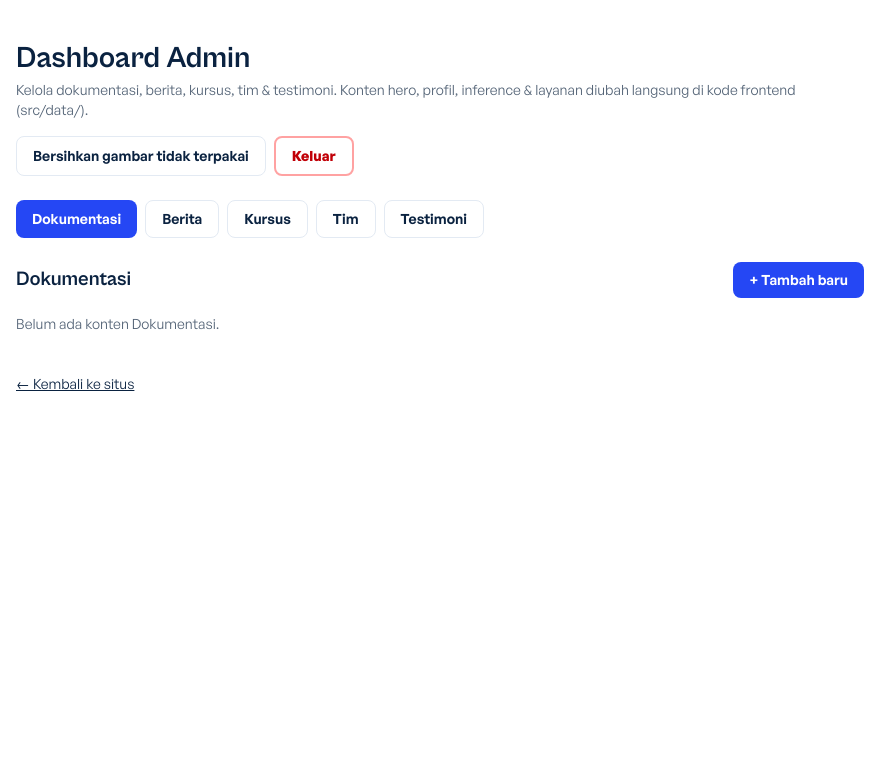
Test: Admin — tab Kursus › form kursus terbagi 5 bagian bernomor + video/kuis di balik disclosure
Expected: the heading "Dashboard Admin" is shown, x1=16 y1=41 x2=250 y2=75
Click the tab "Kursus". click: (268, 219)
box: x1=227 y1=200 x2=308 y2=238
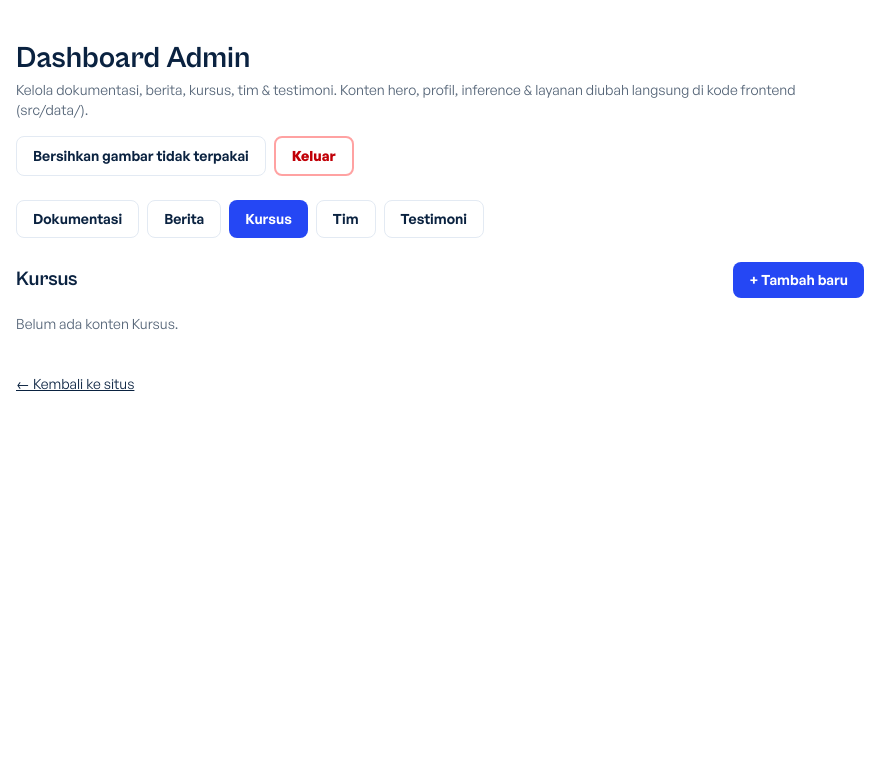
Click the button "+ Tambah baru". click: (799, 280)
box: x1=733 y1=262 x2=864 y2=298
(page scrolled)
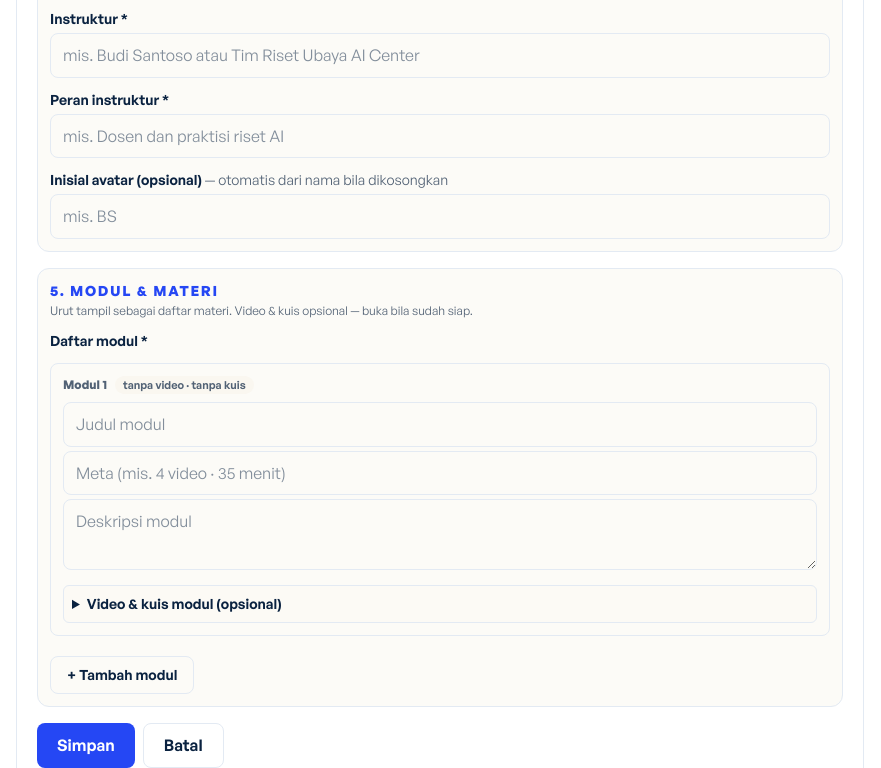
Result: the heading "5. Modul & materi" is shown at x1=50 y1=282 x2=219 y2=299
Result: the element showing "Video & kuis modul (opsional)" is shown at x1=63 y1=585 x2=817 y2=623
Result: the heading "Video & kuis modul (opsional)" is shown at x1=87 y1=595 x2=282 y2=612
